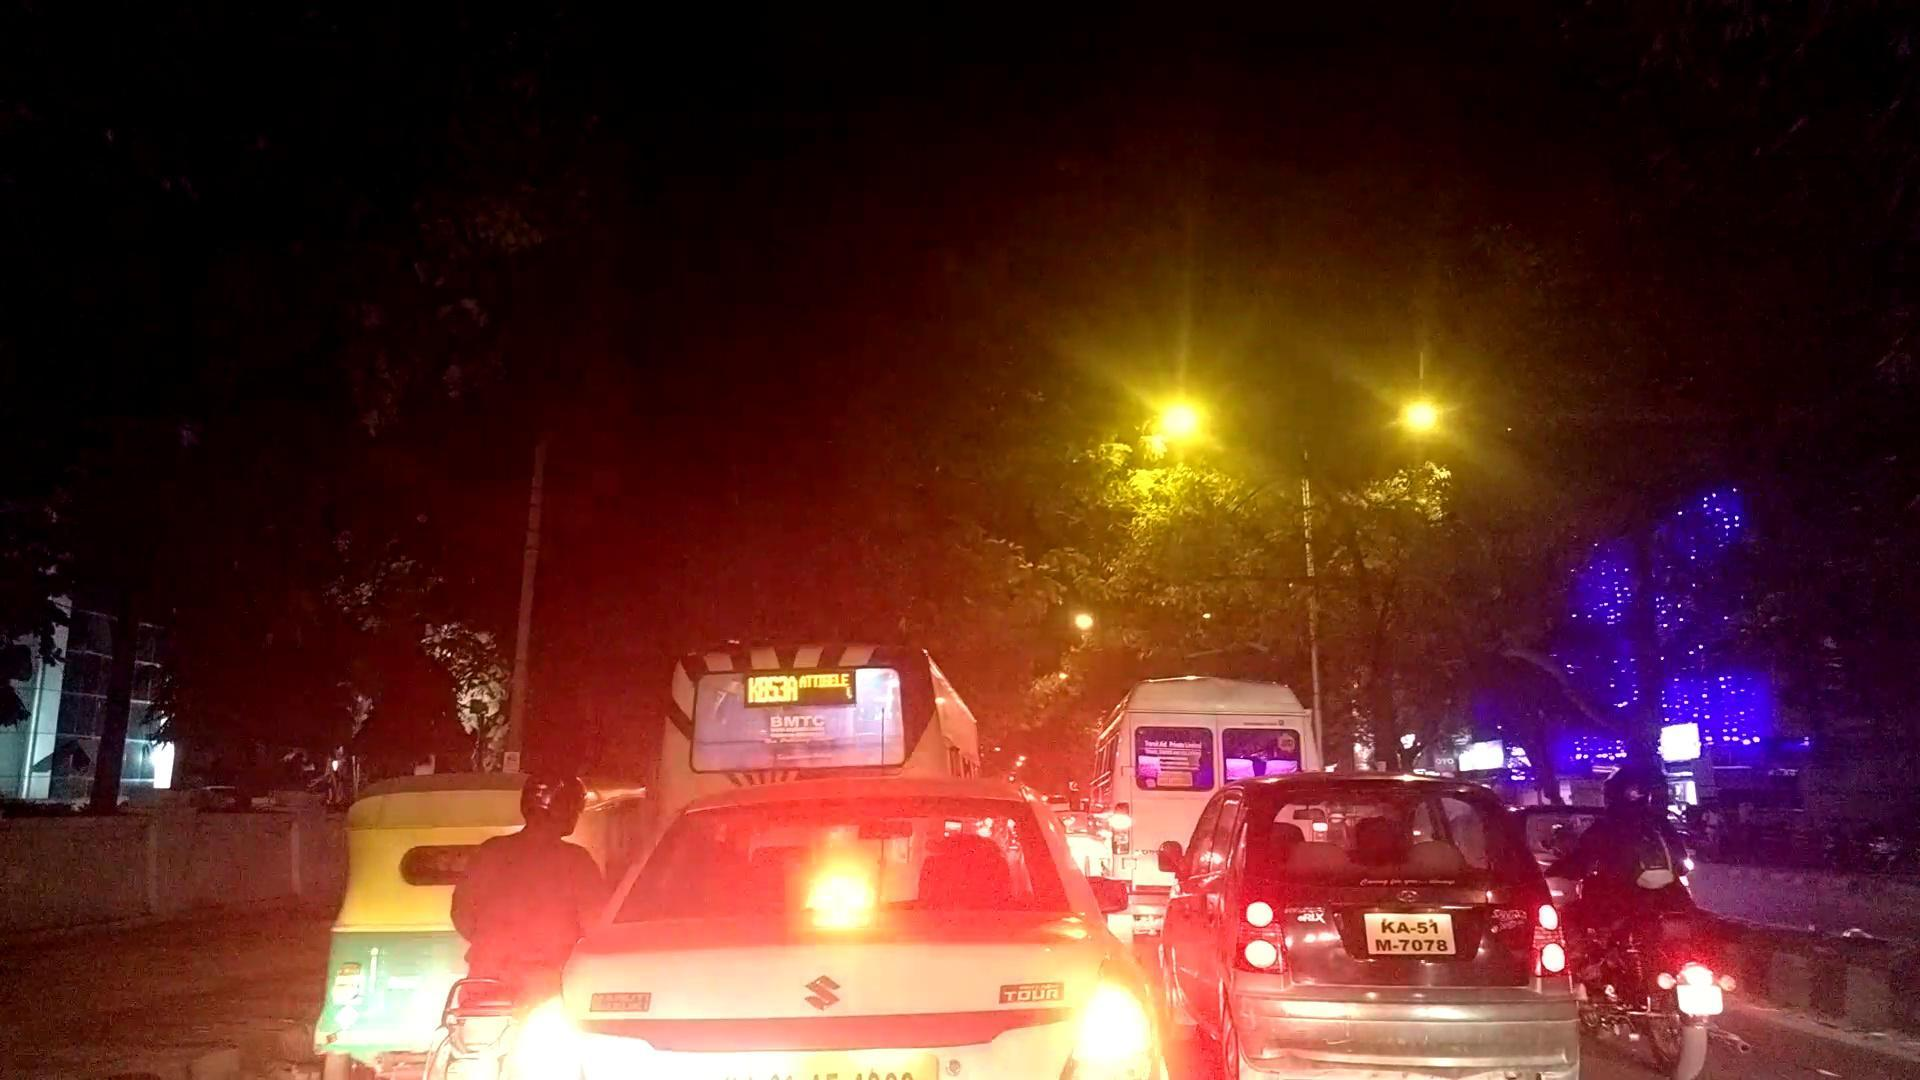on: (40, 42, 1830, 1080)
